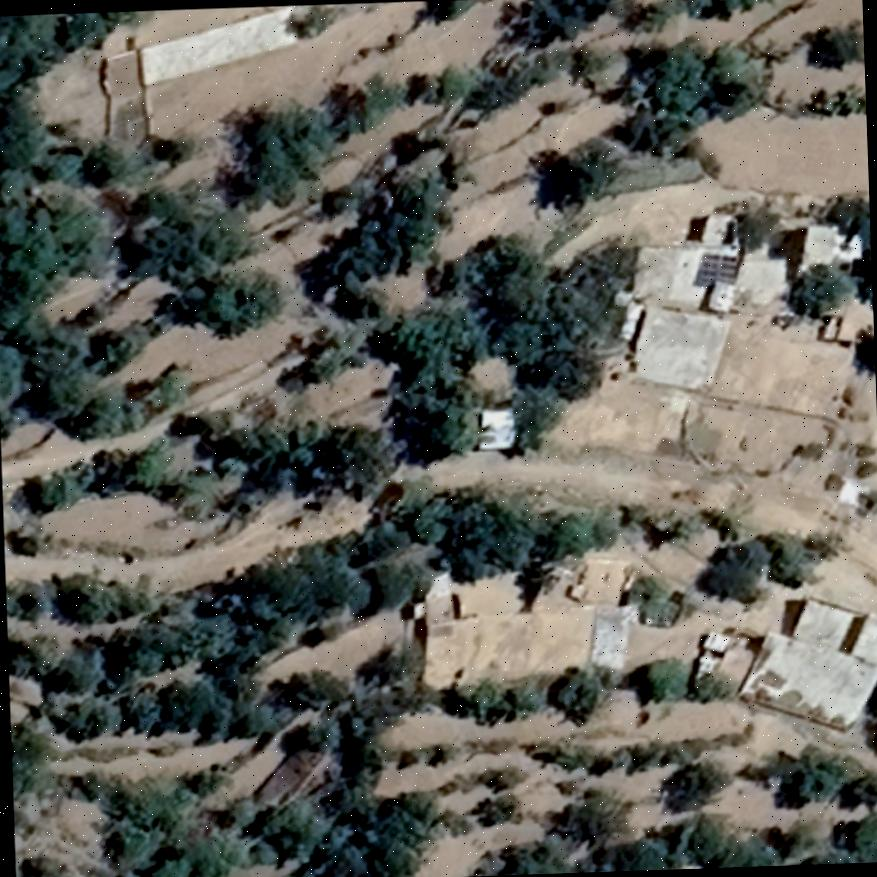Solarpanel: (696, 252, 738, 285)
